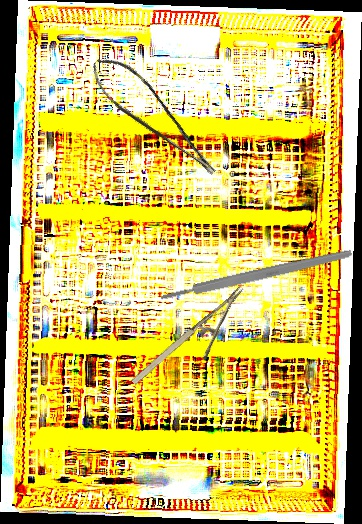Micro Scissor: (83, 43, 221, 196)
Needle Holder: (128, 285, 263, 404)
Scalpel Handle: (159, 247, 353, 303)
